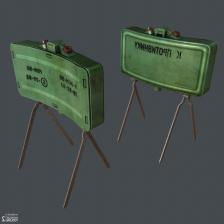MOH-50: (5, 32, 106, 144), (116, 14, 220, 106)
